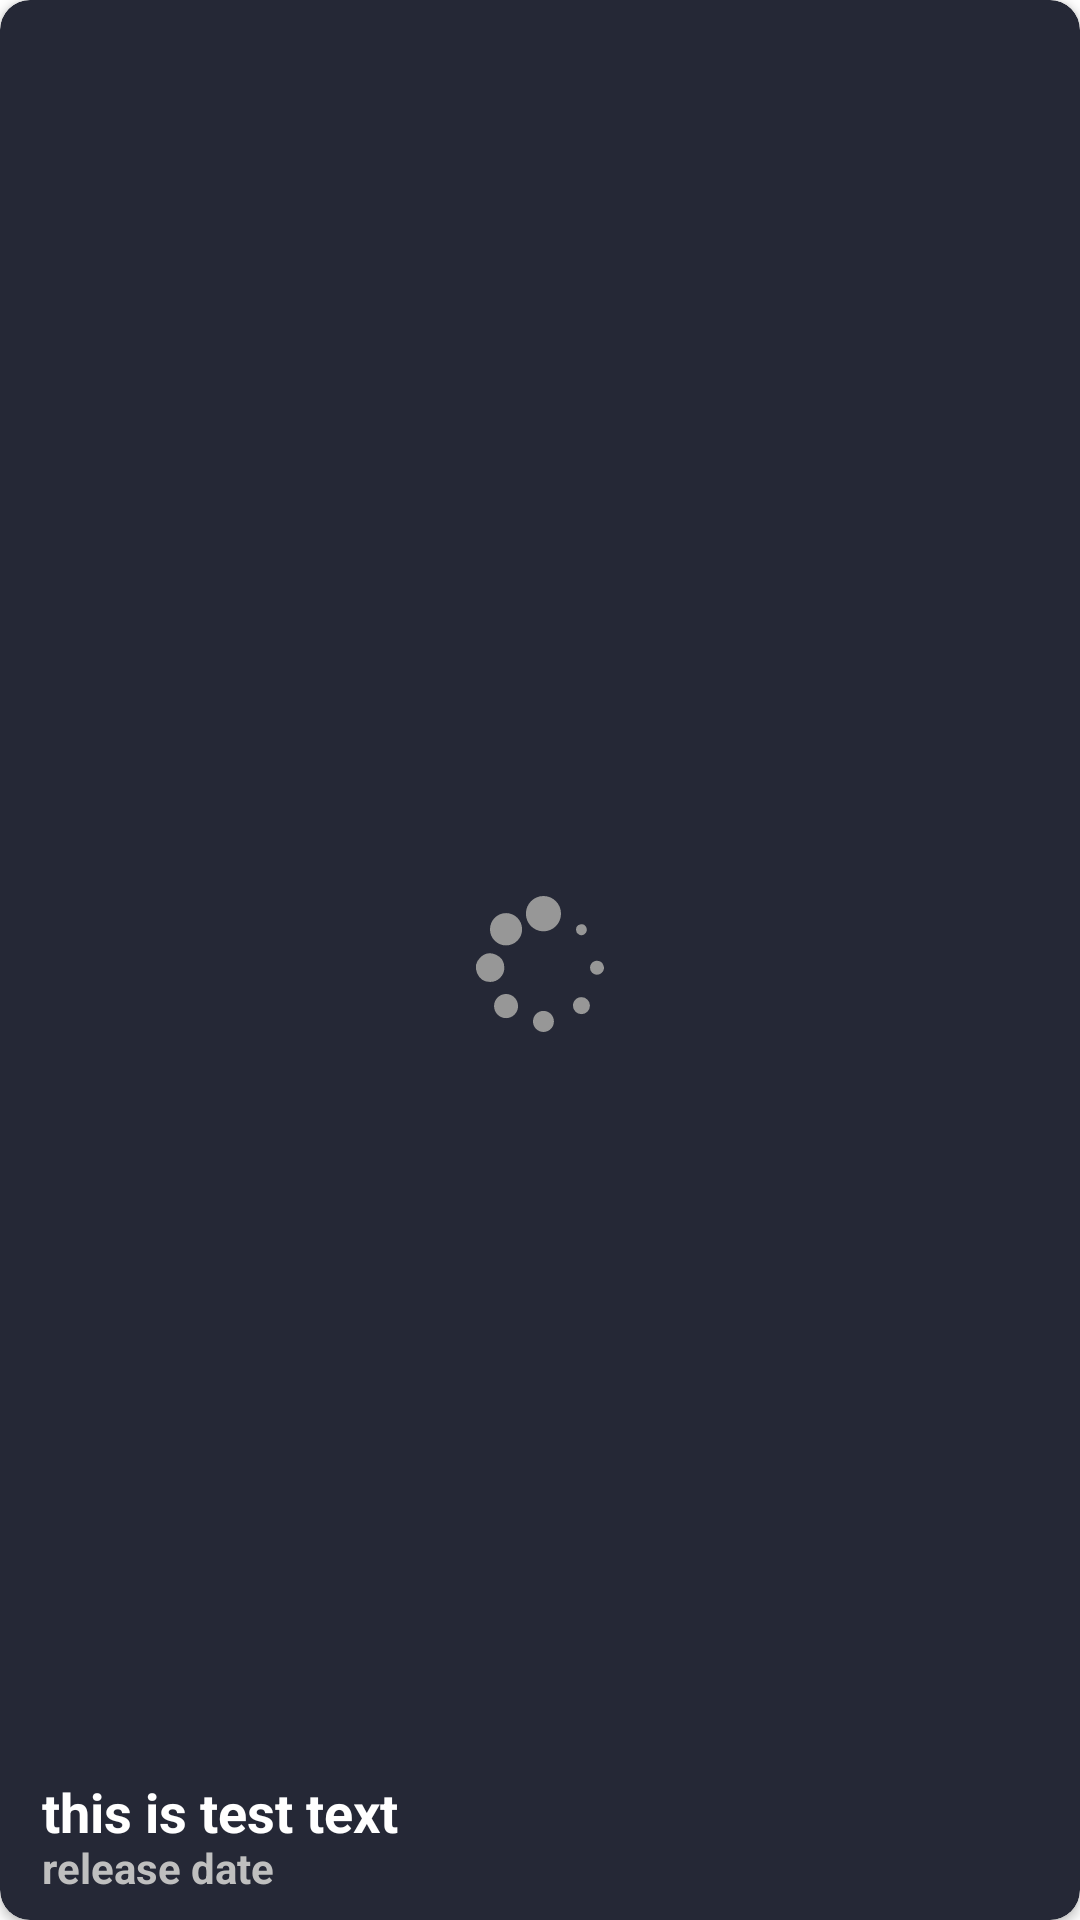

Where to tap for icons on this 1080w x 1920h app screen, as (x=x, y=y):
loading: (x=540, y=964)
